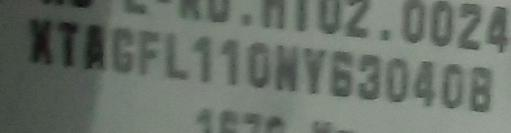letter: (270, 42, 300, 95), (53, 17, 81, 72), (81, 21, 109, 74), (108, 25, 136, 78), (161, 31, 191, 80), (245, 36, 272, 89), (328, 47, 355, 100), (356, 50, 383, 103), (439, 61, 467, 112), (468, 65, 495, 116), (27, 17, 55, 66), (135, 26, 161, 77), (411, 58, 437, 107), (302, 44, 326, 97), (191, 34, 215, 85), (384, 55, 408, 104), (219, 35, 241, 88)
